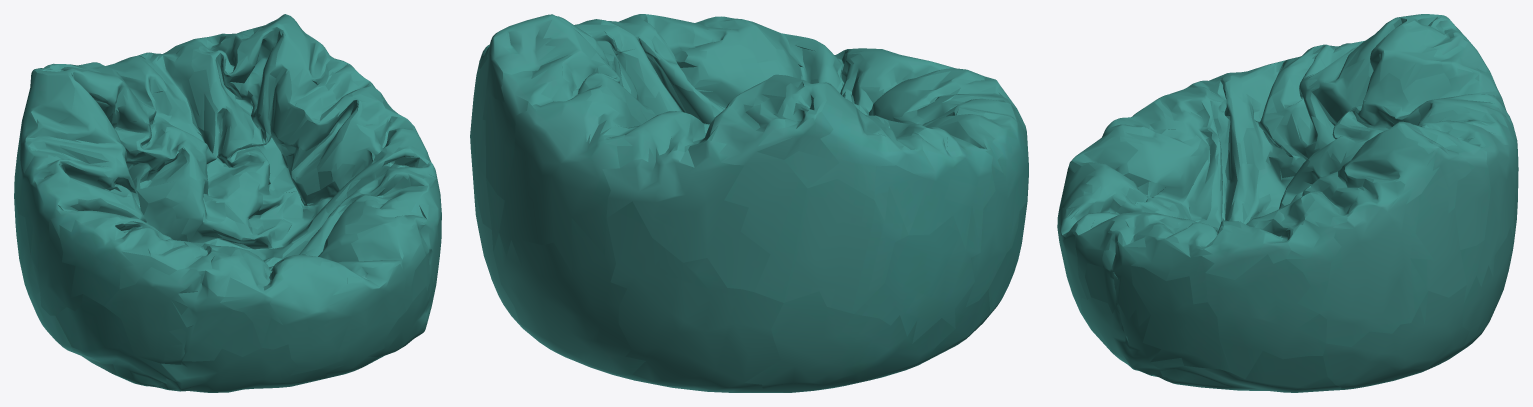
Rendered from beanbag.glb.
3 views of the same model, side by side, from view 1: azimuth 30°, elevation 25°; view 2: azimuth 150°, elevation 25°; view 3: azimuth 270°, elevation 25° (orthographic). The views are drawn at different scales.
Size of the model in its own units: 1.86 by 1.09 by 1.9.
1 material, 1 textured.
